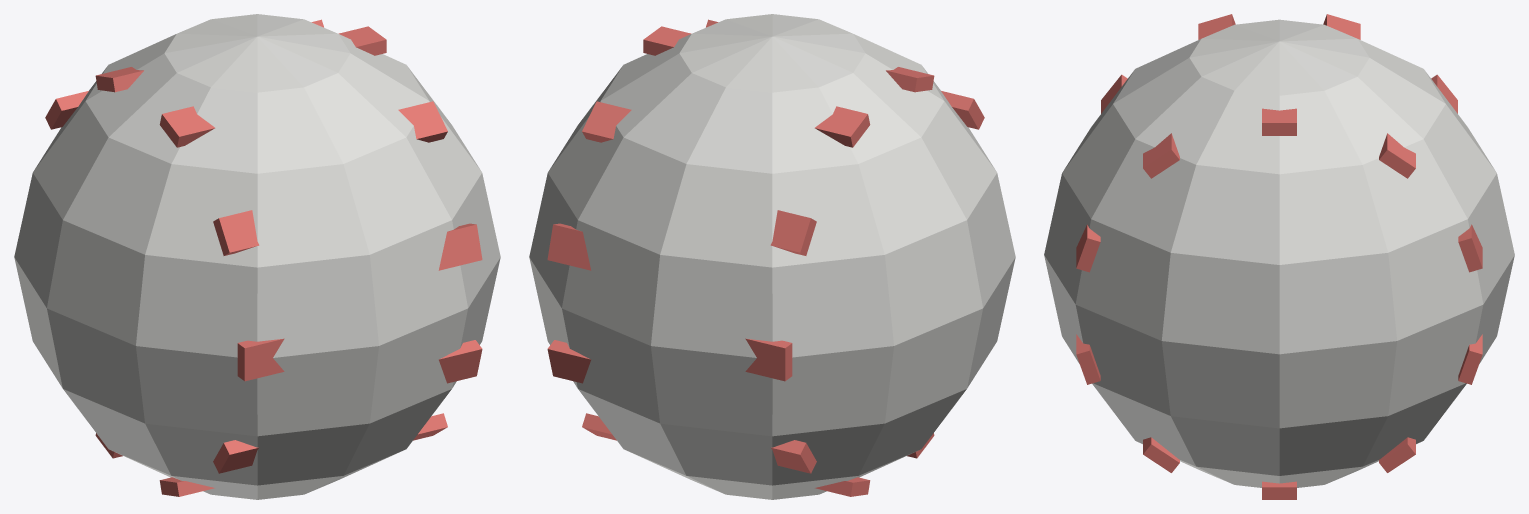
The model's file is baseball-park-and-batting-cages-baseball-a31ca2a5__33765.glb.
3 renders of one model, left to right at view 1: azimuth 30°, elevation 25°; view 2: azimuth 150°, elevation 25°; view 3: azimuth 270°, elevation 25°, orthographic. The views are drawn at different scales.
Visible parts, largest first — view 1: baseball; view 2: baseball; view 3: baseball.
Boxes of the visible parts, x1,y1,x2,y2 form: baseball: (14, 14, 500, 499); baseball: (529, 14, 1015, 499); baseball: (1044, 14, 1514, 499).
Size of the model in its own units: 0.074 by 0.074 by 0.074.
